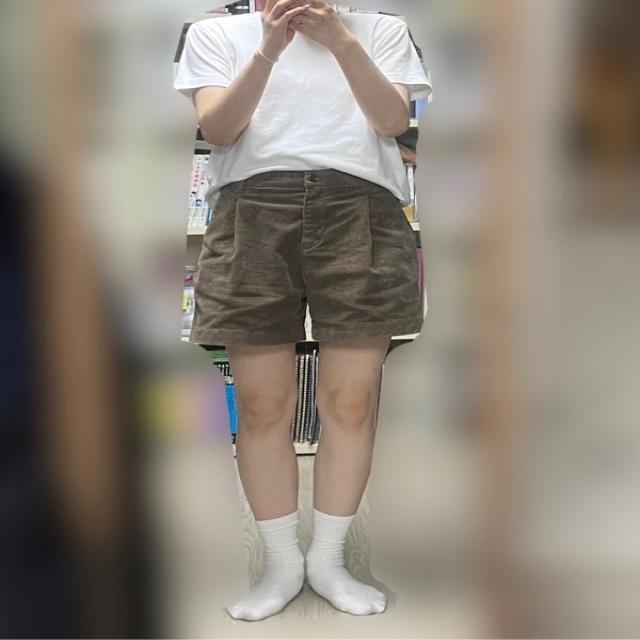shortpants: (196, 170, 420, 348)
shortsleeve: (173, 7, 427, 205)
